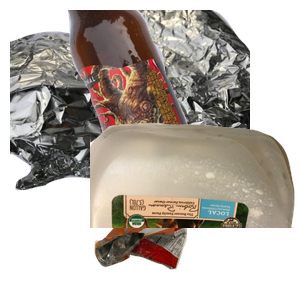glass: (65, 10, 300, 190)
metal: (10, 10, 250, 190)
plastic: (90, 120, 300, 300)
trash: (92, 174, 272, 300)
